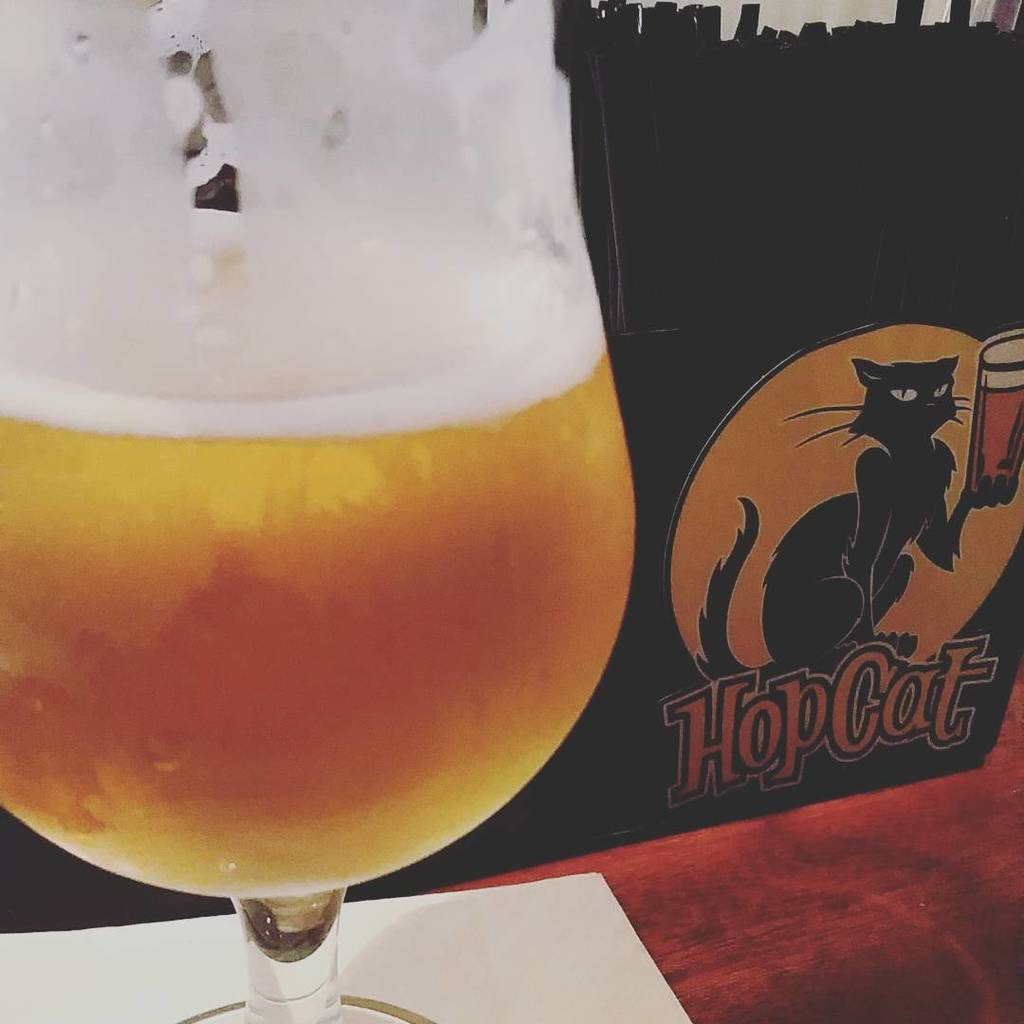Beer: (2, 0, 631, 901)
